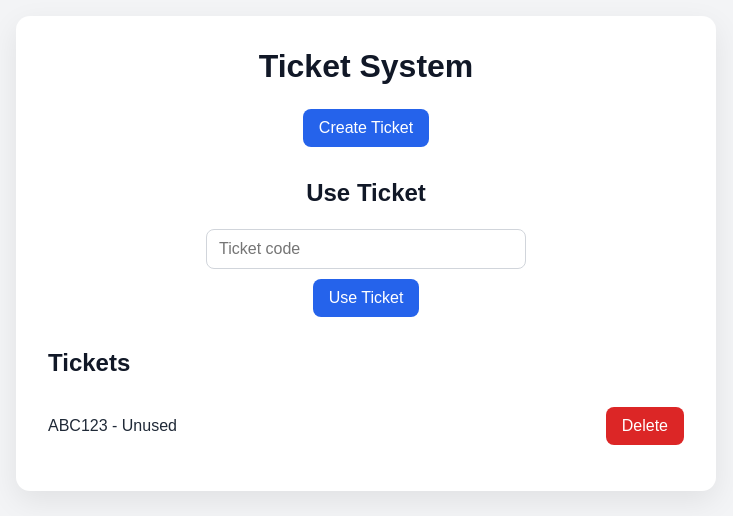
it: removes the deleted ticket from the list
The width and height of the screenshot is (733, 516).
Click the button with test id "delete-ticket-button": (645, 426) [606,407,684,445]
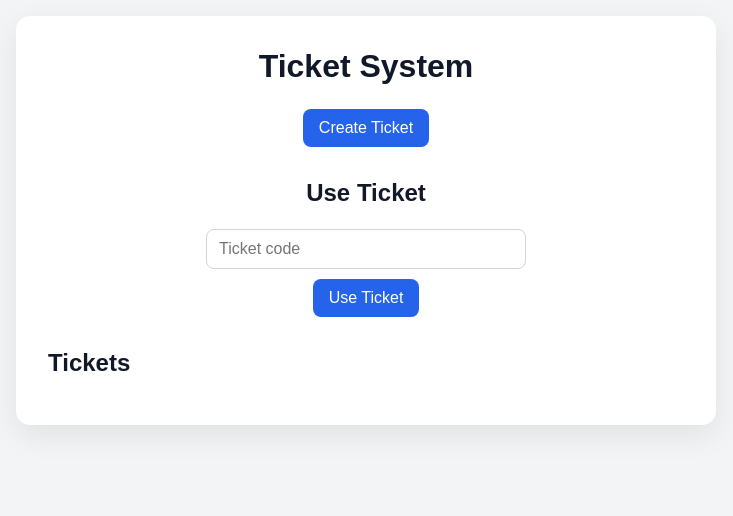
Check: the text "ABC123" is gone
